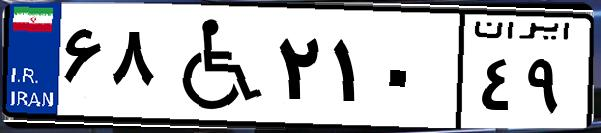0: (385, 28, 445, 110)
1: (330, 28, 385, 110)
2: (270, 28, 330, 110)
4: (475, 38, 525, 113)
6: (57, 26, 110, 100)
8: (110, 28, 158, 98)
9: (525, 38, 570, 115)
ژ (معلولین و جانبازان): (158, 12, 270, 120)
